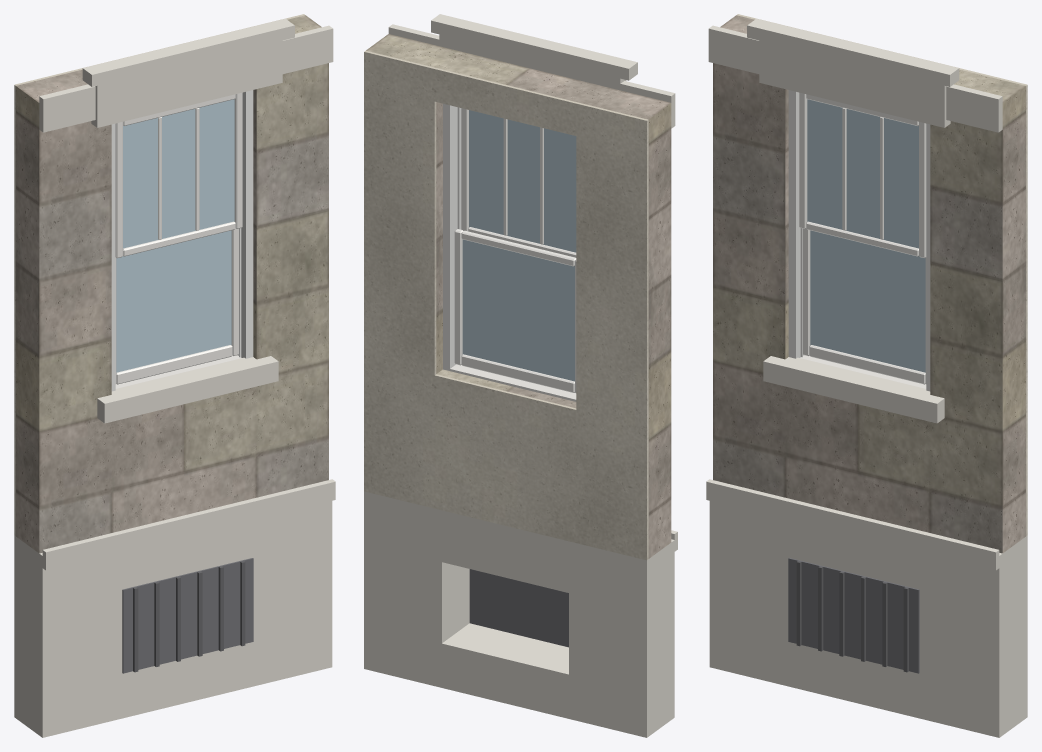
The model's file is wall_b0_window.glb.
3 renders of one model, left to right at view 1: azimuth 30°, elevation 25°; view 2: azimuth 150°, elevation 25°; view 3: azimuth 330°, elevation 25°, orthographic. The views are drawn at different scales.
Parts seen in each view (by area): view 1: wall_b0_window_grey, wall_b0_window_lime, wall_b0_window_glass, wall_b0_window_dark, wall_b0_window_sash, wall_b0_window_frame, wall_b0_window_iron, wall_b0_window_plaster, wall_b0_window_trim; view 2: wall_b0_window_plaster, wall_b0_window_lime, wall_b0_window_glass, wall_b0_window_grey, wall_b0_window_sash, wall_b0_window_dark, wall_b0_window_frame, wall_b0_window_trim; view 3: wall_b0_window_grey, wall_b0_window_lime, wall_b0_window_glass, wall_b0_window_dark, wall_b0_window_sash, wall_b0_window_frame, wall_b0_window_iron, wall_b0_window_plaster, wall_b0_window_trim.
Part boxes in pixels (box(x1,y1,x2,y2)): wall_b0_window_grey: box(16, 15, 328, 553); wall_b0_window_lime: box(14, 19, 335, 737); wall_b0_window_glass: box(116, 99, 234, 372); wall_b0_window_dark: box(122, 558, 253, 673); wall_b0_window_sash: box(115, 92, 242, 384); wall_b0_window_frame: box(111, 90, 253, 391); wall_b0_window_iron: box(133, 561, 245, 672); wall_b0_window_plaster: box(14, 14, 305, 535); wall_b0_window_trim: box(115, 355, 241, 388); wall_b0_window_plaster: box(364, 50, 648, 560); wall_b0_window_lime: box(364, 14, 677, 737); wall_b0_window_glass: box(462, 110, 576, 381); wall_b0_window_grey: box(366, 34, 671, 558); wall_b0_window_sash: box(454, 108, 576, 393); wall_b0_window_dark: box(469, 569, 568, 647); wall_b0_window_frame: box(443, 103, 461, 370); wall_b0_window_trim: box(450, 364, 576, 401); wall_b0_window_grey: box(713, 15, 1025, 553); wall_b0_window_lime: box(706, 19, 1027, 737); wall_b0_window_glass: box(807, 99, 925, 372); wall_b0_window_dark: box(788, 558, 919, 673); wall_b0_window_sash: box(799, 92, 926, 384); wall_b0_window_frame: box(788, 90, 930, 391); wall_b0_window_iron: box(796, 561, 908, 672); wall_b0_window_plaster: box(736, 14, 1027, 535); wall_b0_window_trim: box(800, 355, 926, 388).
Bounding box in the file's own units: 2 × 4.33 × 0.41.
Materials: 9 (2 with a texture image).
